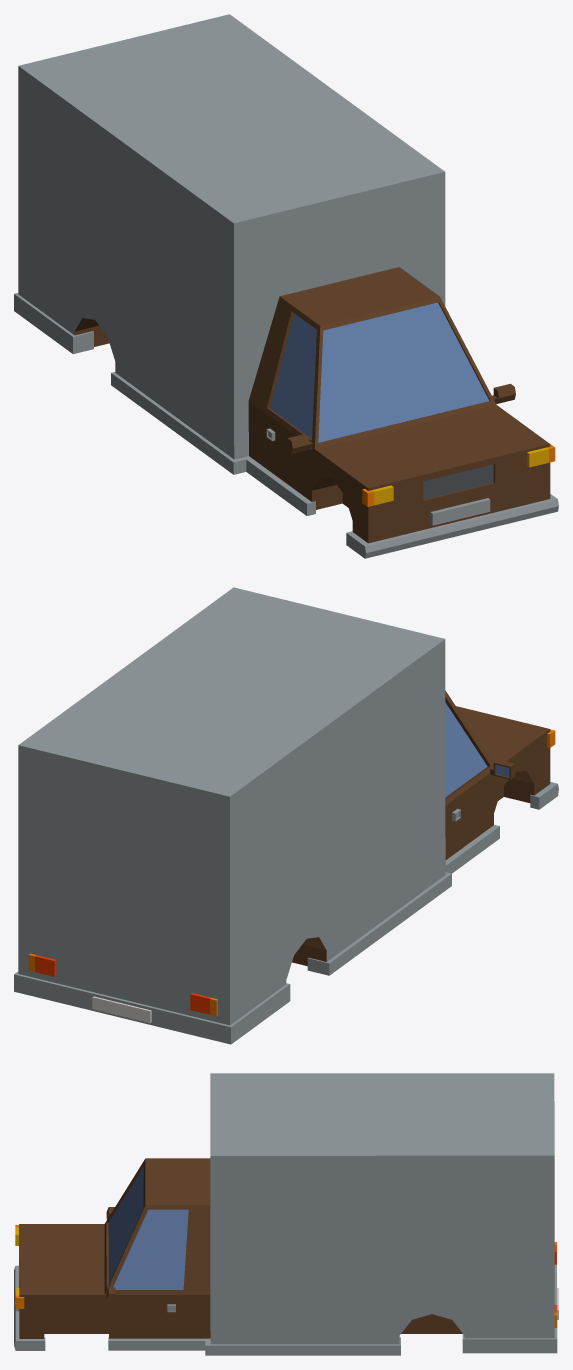
File: Car_12.fbx
3 views of the same model, one above another, from view 1: azimuth 30°, elevation 25°; view 2: azimuth 150°, elevation 25°; view 3: azimuth 270°, elevation 25° (orthographic). The views are drawn at different scales.
Parts seen in each view (by area): view 1: Car_12; view 2: Car_12; view 3: Car_12.
Boxes of the visible parts, <box> form: Car_12: <box>14,14,558,558</box>; Car_12: <box>14,587,558,1044</box>; Car_12: <box>14,1073,558,1355</box>.
Size of the model in its own units: 4.02 by 4.28 by 10.65.
